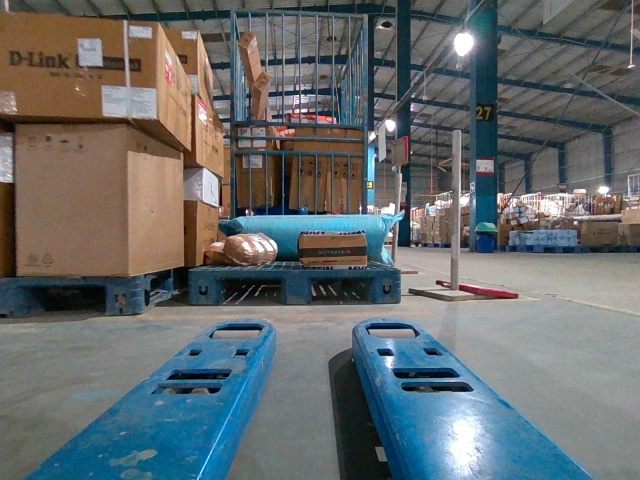block: (105, 274, 149, 318), (188, 268, 223, 304), (369, 269, 403, 303), (281, 266, 311, 304)
front: (188, 268, 401, 304)
hole pallet: (16, 280, 108, 313), (214, 273, 287, 306), (306, 273, 377, 302)
